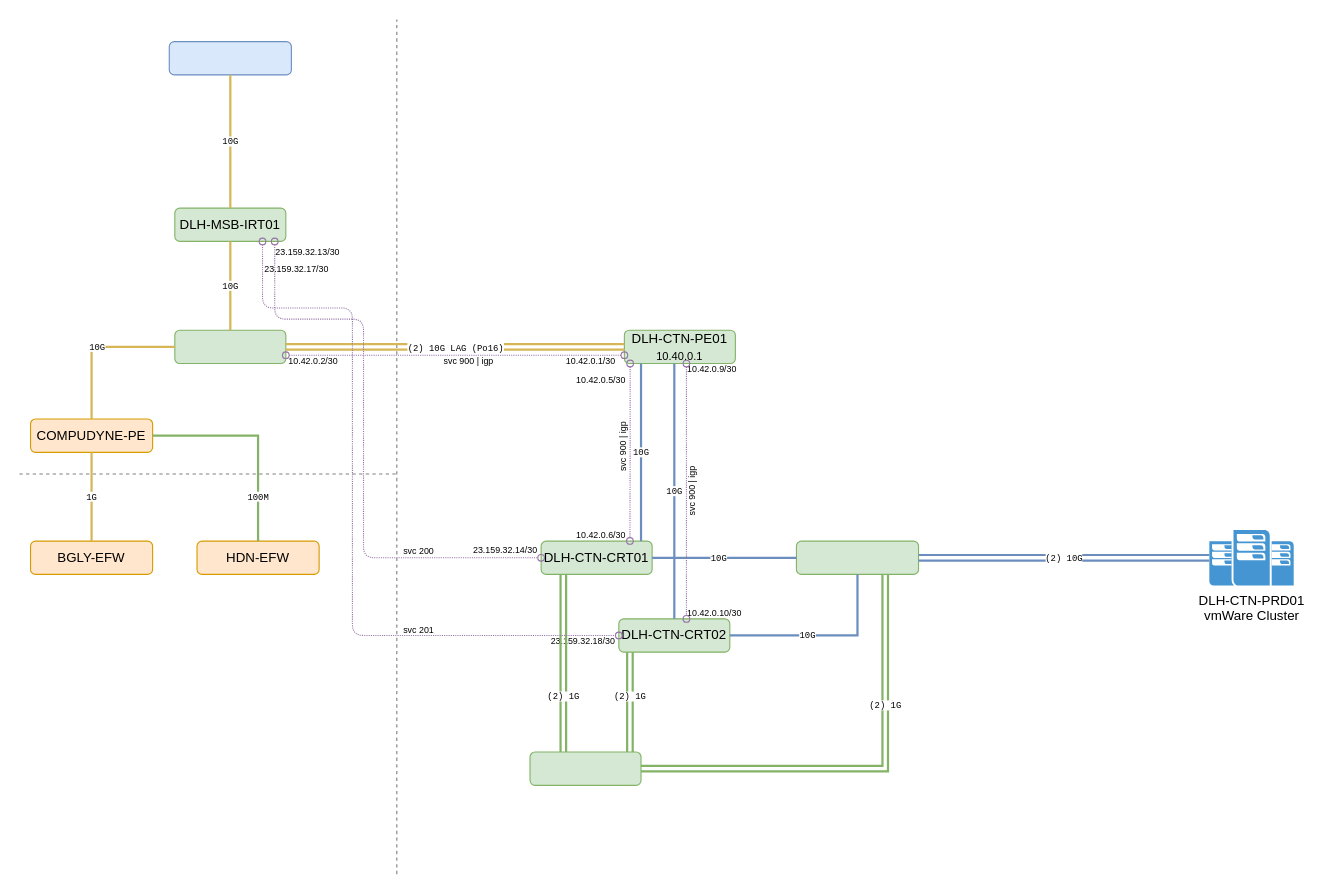
This 1323x895 diagram has some shape labels left out. Here are the shapes that lost their labels. From the top down, the centre of each, then its label:
(229,58): DIA (VLAN 1) MICE (VLAN 100)
(230,346): DLH-MSB-PE01 10.40.0.2
(857,557): DLH-CTN-CSW01
(585,768): DLH-CTN-EFW01
